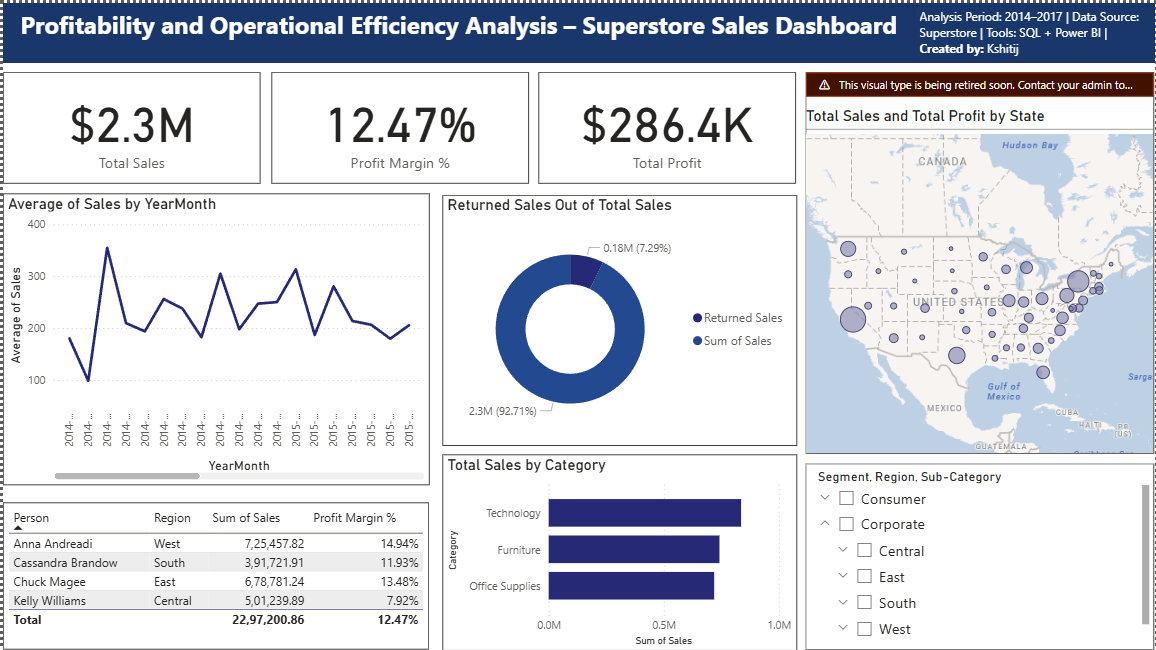

Layout of this report page (visuals, bound fields, positions):
{"tool":"powerbi","page":{"name":"Page 1","canvas":[1280,720],"ordinal":0},"visuals":[{"type":"lineChart","fields":{"Y":["Orders.Sales"],"Category":["Date.YearMonth"]},"box":[0,212,473.9,324],"z":0},{"type":"card","fields":{"Values":["Date.Total Sales"]},"box":[0,77.2,286.2,124.2],"z":2},{"type":"card","fields":{"Values":["Date.Total Profit"]},"box":[595.1,77.2,286.2,124.2],"z":3},{"type":"card","fields":{"Values":["Date.Profit Margin %"]},"box":[298.3,77.2,286.2,124.2],"z":4},{"type":"group","id":"g1","title":"Group 1","box":[0,0,1279.5,66.2],"z":6},{"type":"clusteredBarChart","title":"Total Sales by Category","fields":{"Category":["Orders.Category"],"Y":["Orders.Sales"]},"box":[487.6,501.2,393.7,218],"z":7},{"type":"donutChart","title":"Returned Sales Out of Total Sales","fields":{"Y":["Date.Returned Sales","Orders.Sales"]},"box":[487.6,213.5,393.7,278.6],"z":8},{"type":"map","title":"Total Sales and Total Profit by State","fields":{"Category":["Orders.State"],"Size":["Orders.Sales"]},"box":[891.9,77.2,387.6,424],"z":9},{"type":"tableEx","fields":{"Values":["People.Person","Orders.Region","Orders.Sales","Date.Profit Margin %"]},"box":[0,555,473.3,163.3],"z":10},{"type":"slicer","fields":{"Values":["Orders.Segment","Orders.Region","Orders.Sub-Category"]},"box":[891.9,511.8,387.6,207.4],"z":11},{"type":"textbox","box":[1013,0,266.5,65.1],"z":8000,"group":"g1"},{"type":"textbox","box":[0,0,1012.5,66.2],"z":12001,"group":"g1"}]}

Visuals, with their boxes in screenshot pixels (x1, y1, x2, y2), scaled from the page's 1280x720 canvas onto the 1156x650 screenshot:
lineChart - Orders.Sales x Date.YearMonth: box=[0, 191, 428, 484]
card - Date.Total Sales: box=[0, 70, 258, 182]
card - Date.Total Profit: box=[537, 70, 796, 182]
card - Date.Profit Margin %: box=[269, 70, 528, 182]
"Group 1" group: box=[0, 0, 1155, 60]
"Total Sales by Category" clusteredBarChart: box=[440, 452, 796, 649]
"Returned Sales Out of Total Sales" donutChart: box=[440, 193, 796, 444]
"Total Sales and Total Profit by State" map: box=[805, 70, 1155, 452]
tableEx - People.Person x Orders.Region: box=[0, 501, 427, 648]
slicer - Orders.Segment x Orders.Region: box=[805, 462, 1155, 649]
textbox: box=[915, 0, 1155, 59]
textbox: box=[0, 0, 914, 60]
